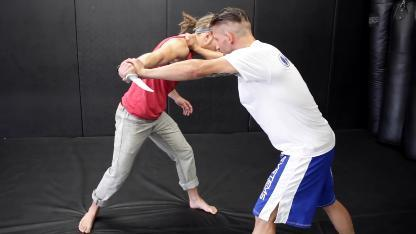knife: (114, 62, 156, 93)
